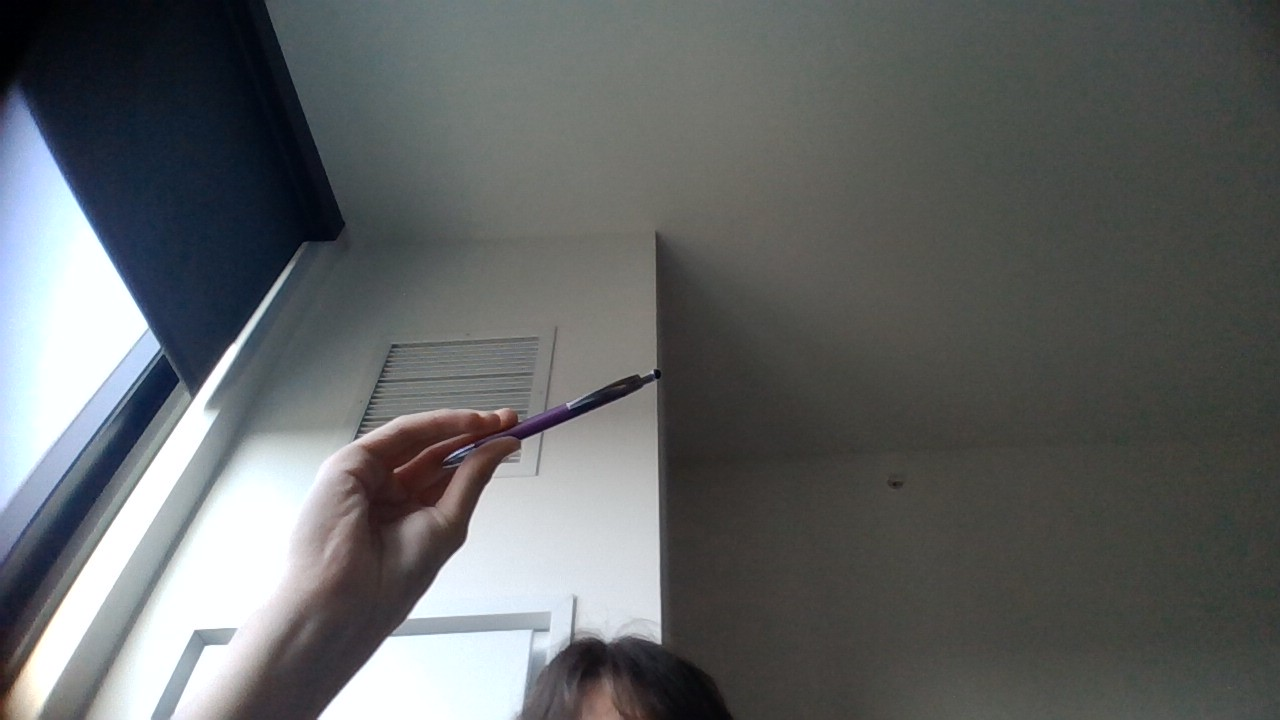Purple Pen: (504, 371, 660, 444)
